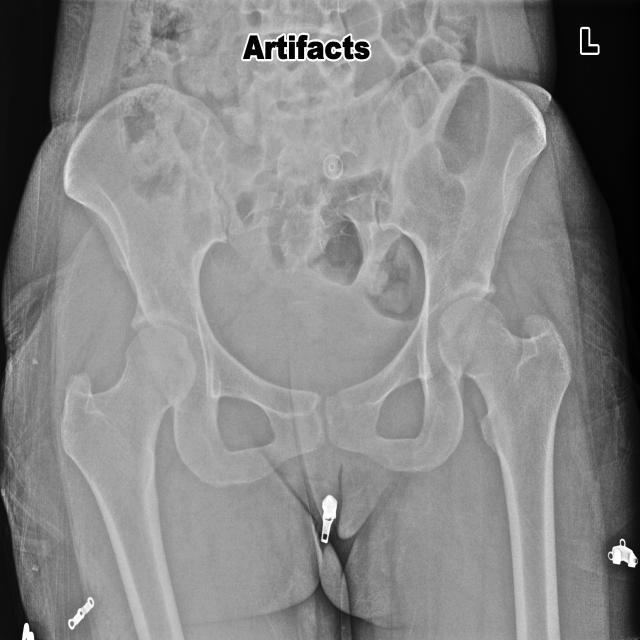normal-left: (439, 297, 572, 639)
normal-right: (61, 326, 195, 639)
